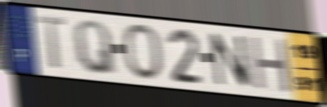2: (166, 27, 204, 87)
H: (248, 34, 294, 95)
N: (208, 31, 254, 90)
O: (121, 22, 165, 82)
Q: (72, 18, 119, 78)
T: (35, 15, 68, 72)
